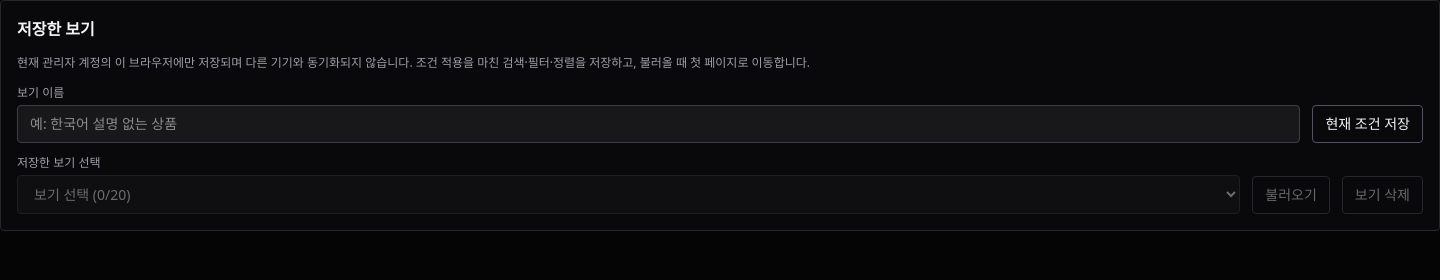
Test: named catalog views › does not report success or replace persisted values when writing fails
The width and height of the screenshot is (1440, 280).
Type "Name" into the field labelled "보기 이름".
click(659, 124); type("Name")  # box 17,104 -> 1300,142
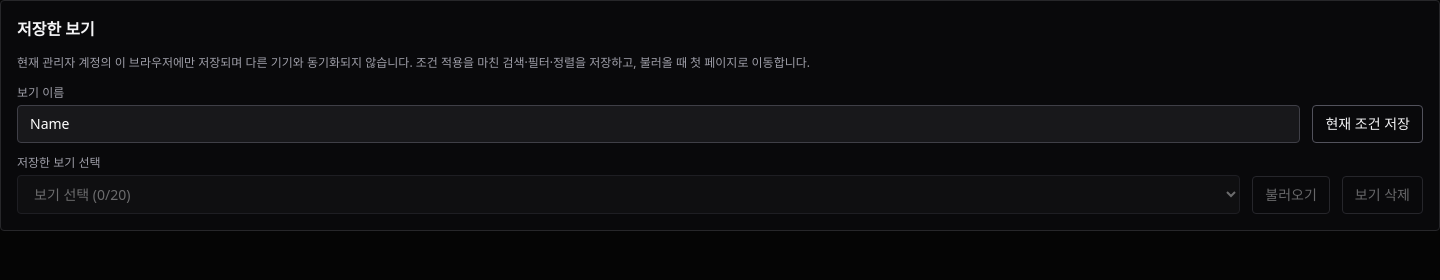
Click the button "현재 조건 저장".
click(1368, 124)  # box 1312,104 -> 1423,142
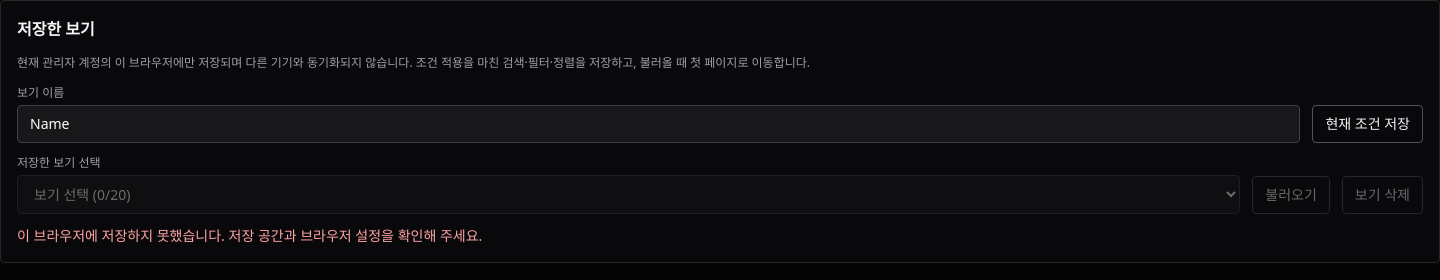
Check: the message "이 브라우저에 저장하지 못했습니다. 저장 공간과 브라우저 설정을 확인해 주세요." is shown, box 17,226 -> 482,244
